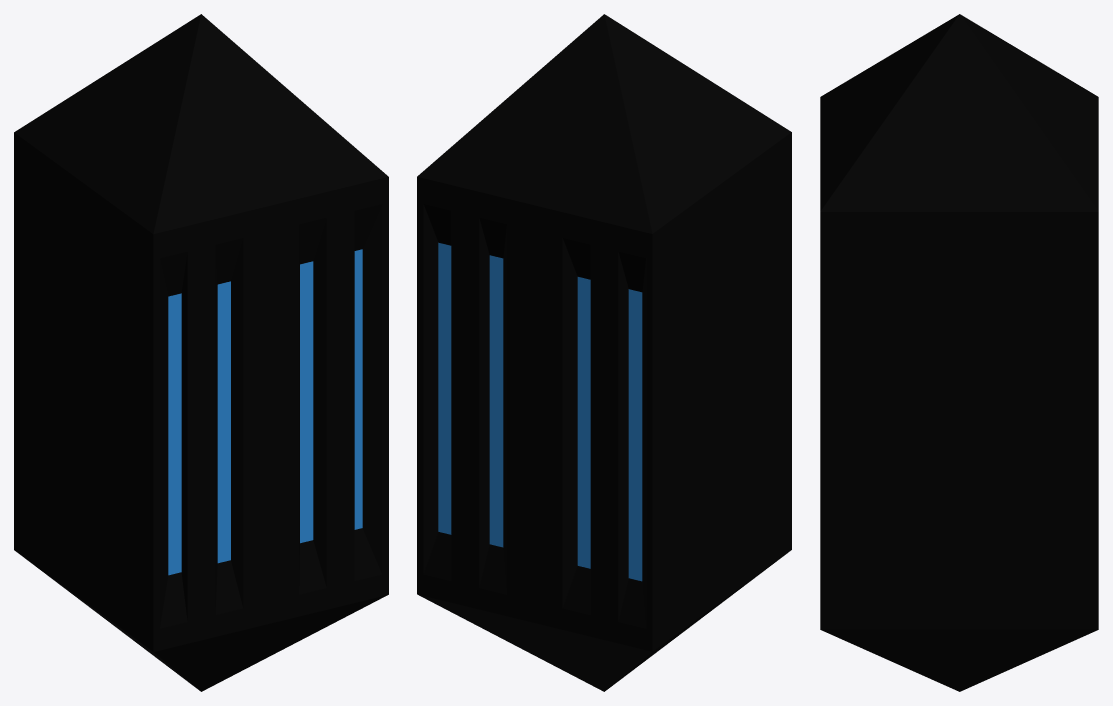
Rendered from Pixelated Lamp 1.fbx.
3 views of the same model, side by side, from view 1: azimuth 30°, elevation 25°; view 2: azimuth 150°, elevation 25°; view 3: azimuth 270°, elevation 25° (orthographic).
Parts seen in each view (by area): view 1: Cube.016; view 2: Cube.016; view 3: Cube.016.
Boxes of the visible parts, x1,y1,x2,y2 form: Cube.016: [14, 14, 388, 691]; Cube.016: [417, 14, 791, 691]; Cube.016: [820, 14, 1098, 691].
Bounding box in the file's own units: 117 × 322 × 120.
